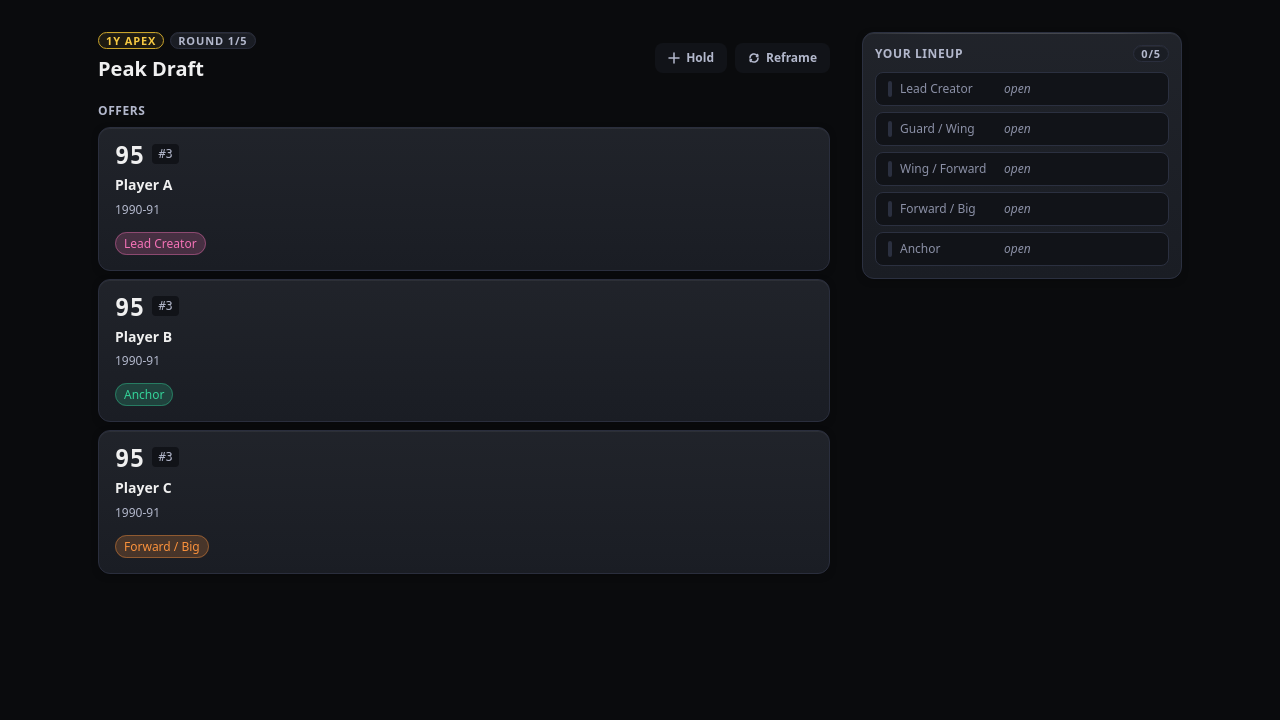
Test: DraftScreen › Hold with no card selected opens the hold prompt rather than submitting immediately
The width and height of the screenshot is (1280, 720).
Click the button "Hold".
click(691, 58)  # box x1=655 y1=42 x2=727 y2=72
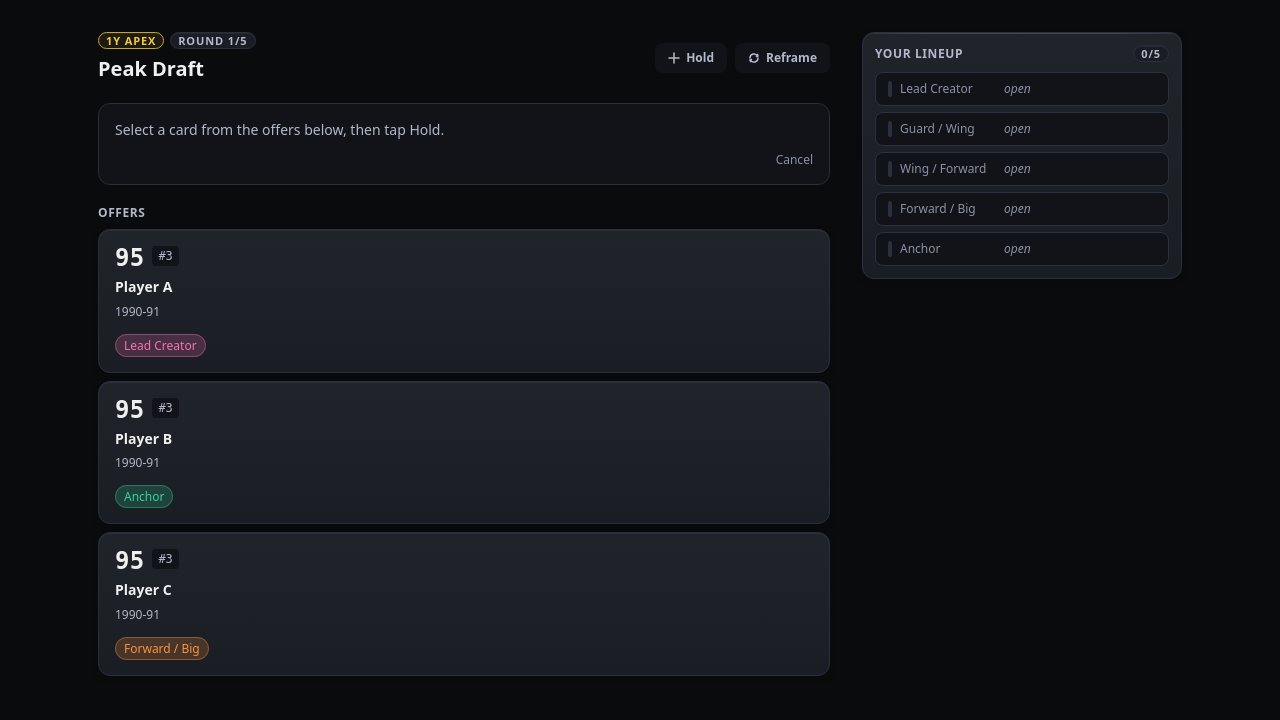
expect the text "Select a card from the offers below, then tap Hold." is shown: met, box x1=115 y1=120 x2=444 y2=139
